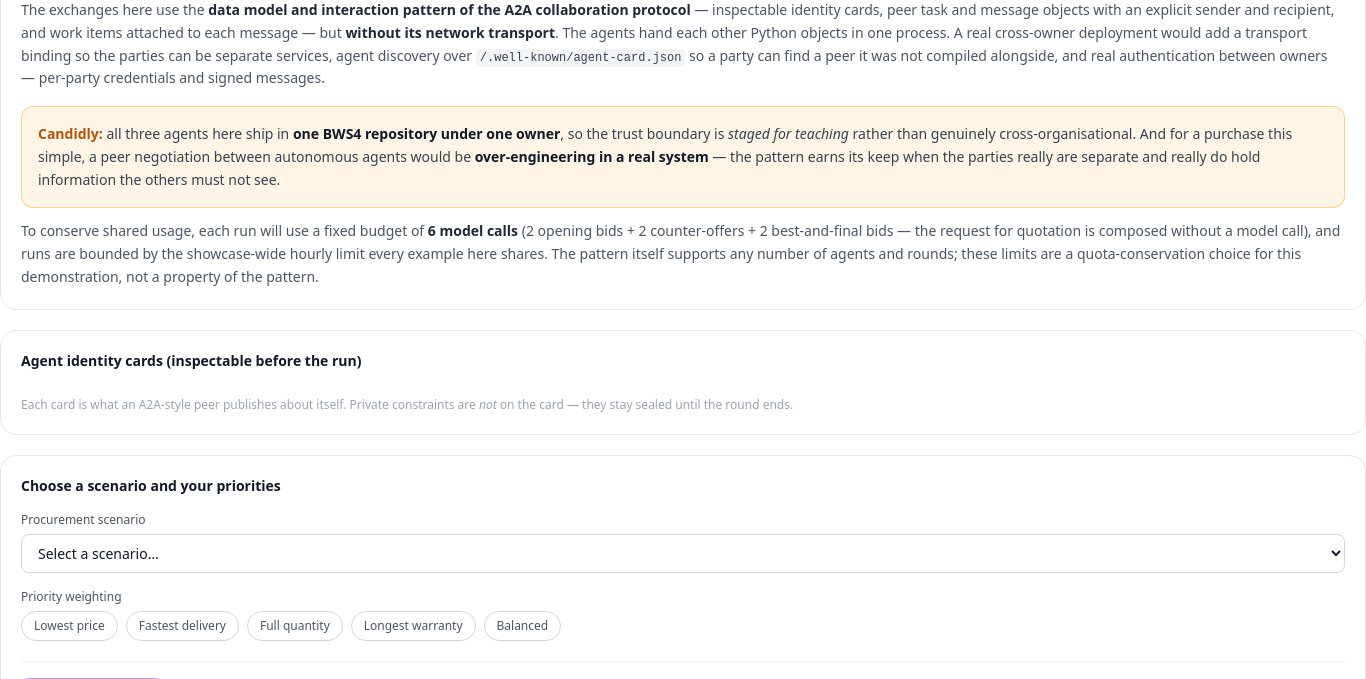
Scenario: the negotiation screen › keeps the surviving bid on screen when the other seller errors
Select "320 commercial van tyres for a delivery fleet" in the dropdown labelled "Procurement scenario". click: (683, 554)
box: [21, 534, 1345, 573]
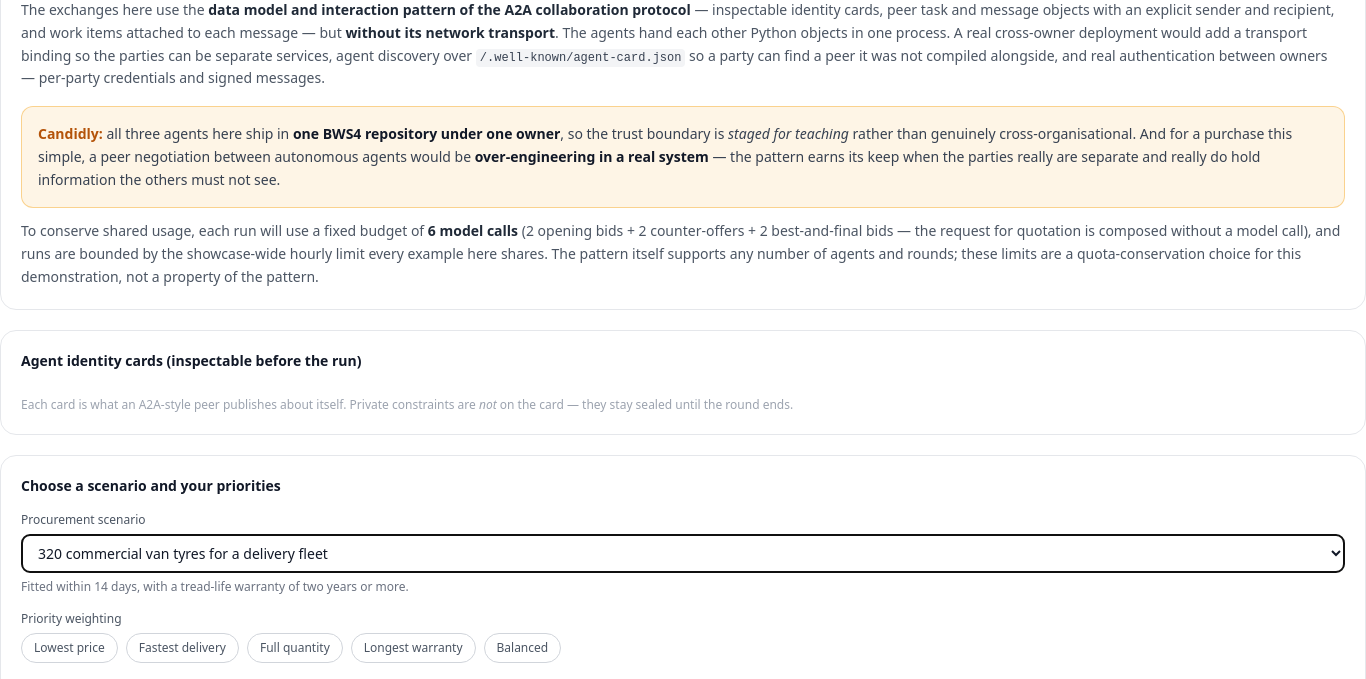
Click the radio button labelled "Lowest price". click: (69, 648)
box: [21, 633, 118, 663]
(page scrolled)
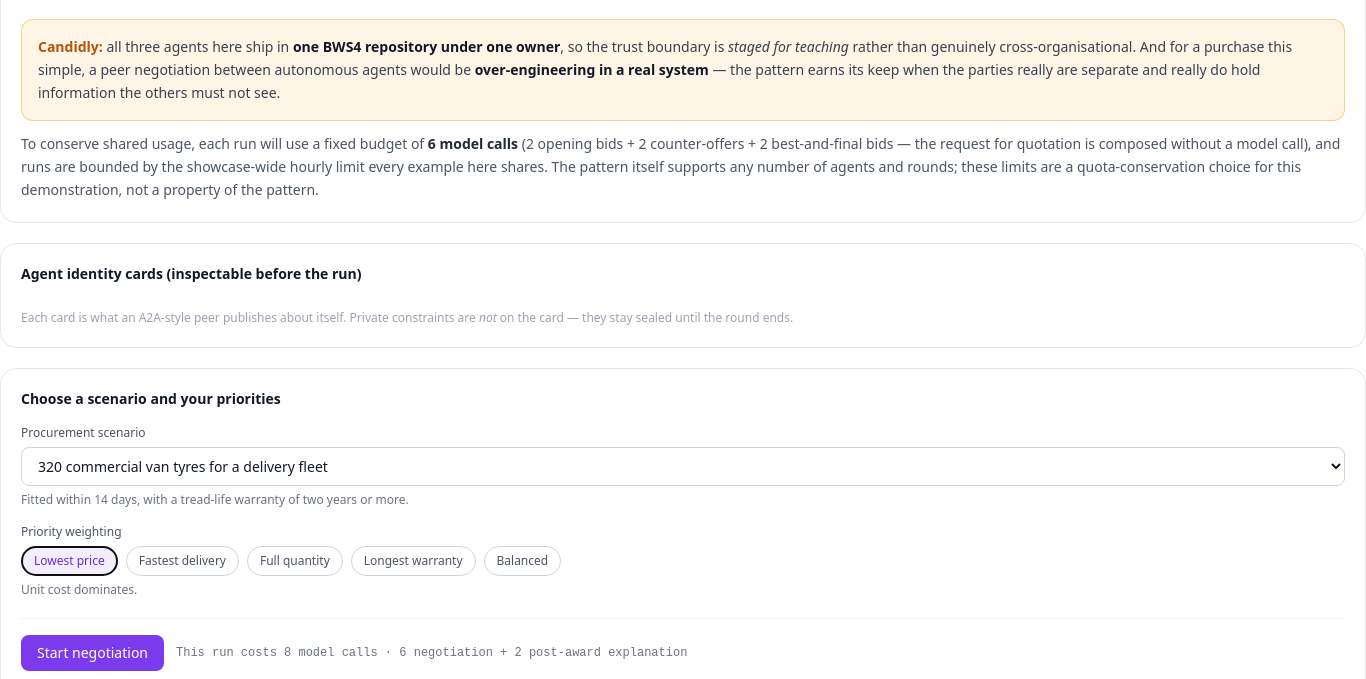
Click the button "Start negotiation". click: (92, 653)
box: [21, 635, 164, 671]
(page scrolled)
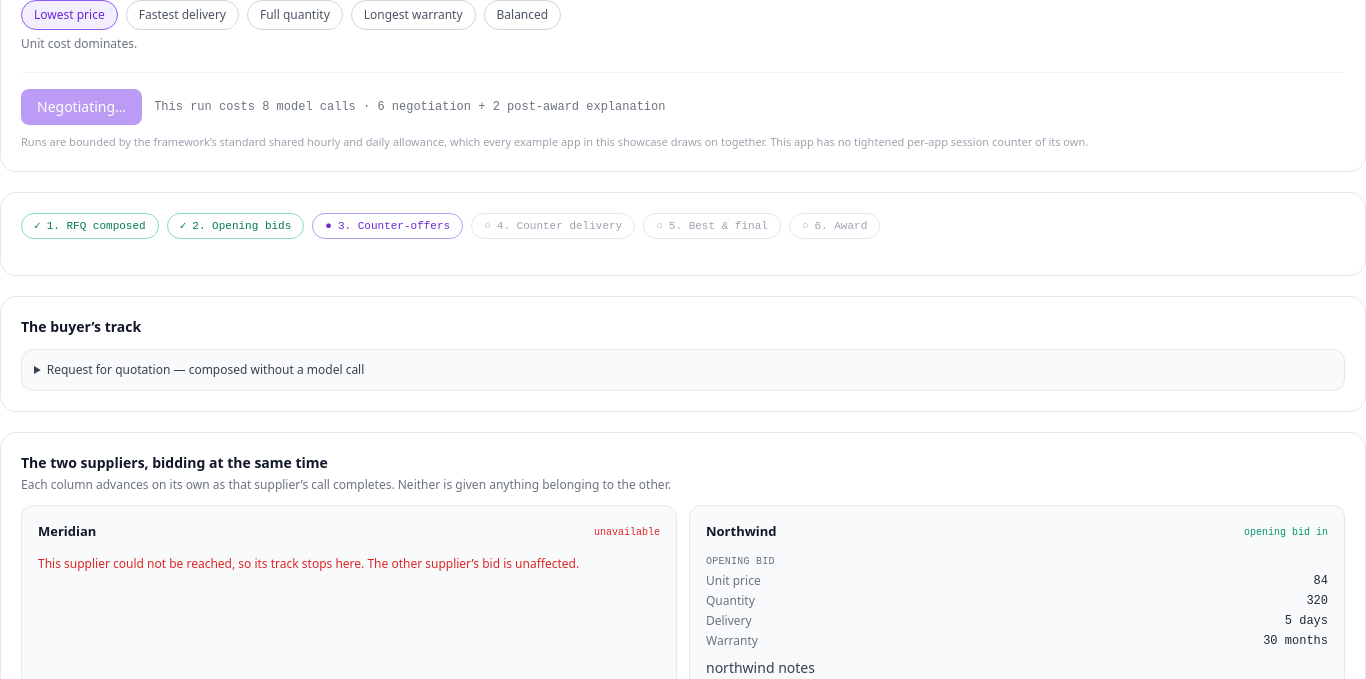
Now the element with test id "seller-column-northwind" shows "84", box [1314, 574, 1328, 588]
Now the element with test id "seller-column-northwind" shows "northwind notes", box [706, 658, 815, 677]
